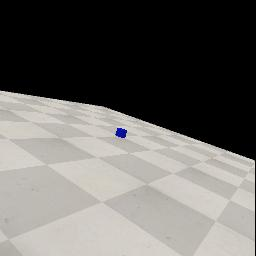box: (115, 128, 127, 138)
